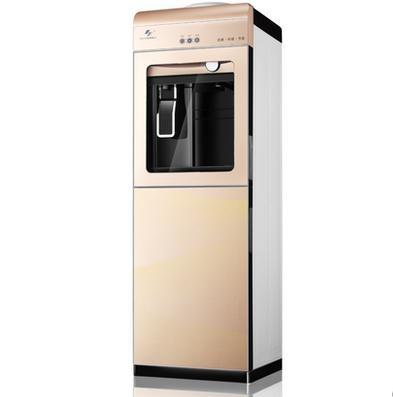Dispenser: (132, 0, 282, 396)
